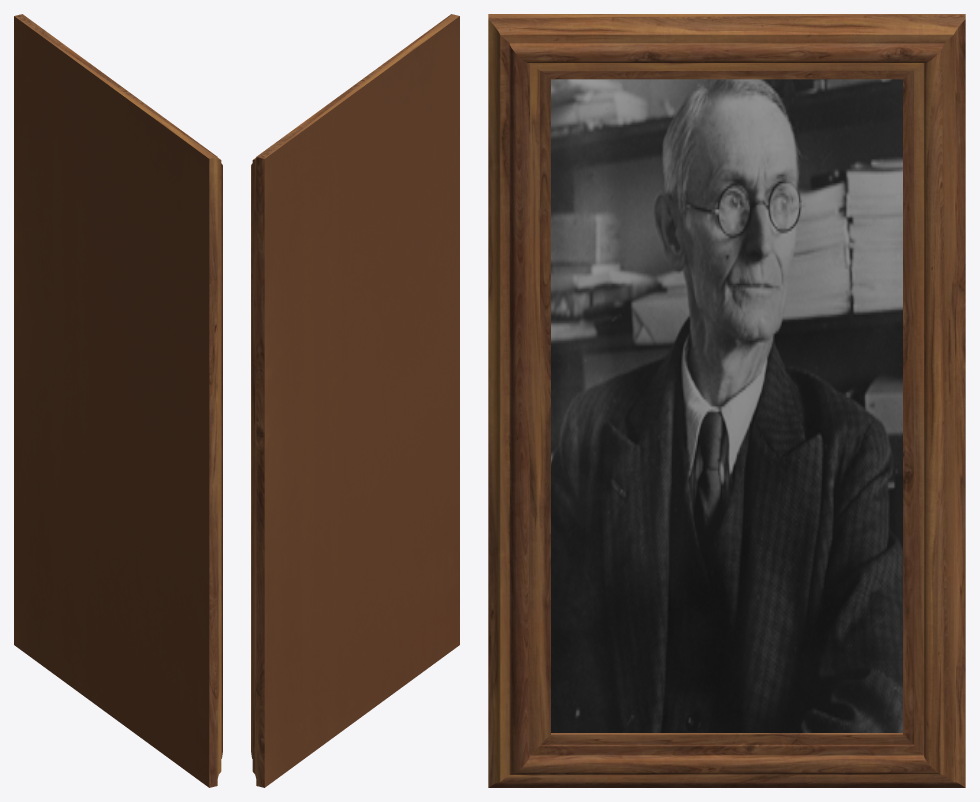
File: tablo_hermann_hesse.fbx
3 views of the same model, side by side, from view 1: azimuth 30°, elevation 25°; view 2: azimuth 150°, elevation 25°; view 3: azimuth 270°, elevation 25° (orthographic). The views are drawn at different scales.
Parts seen in each view (by area): view 1: tablo_1; view 2: tablo_1; view 3: tablo_1.
Boxes of the visible parts, bbox=[...] form: tablo_1: bbox=[14, 14, 222, 787]; tablo_1: bbox=[251, 14, 459, 787]; tablo_1: bbox=[488, 14, 965, 787].
Size of the model in its own units: 307 by 7339 by 4128.
1 material, 1 textured.
